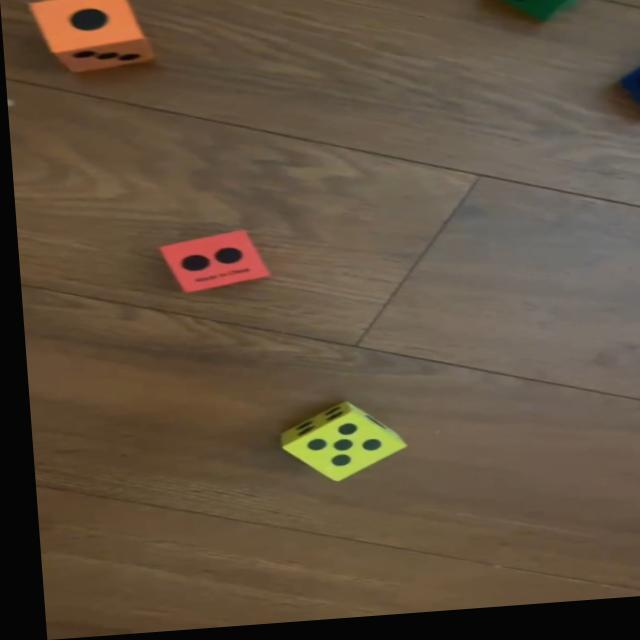blue_block: (624, 72, 640, 126)
red_block: (154, 231, 267, 296)
